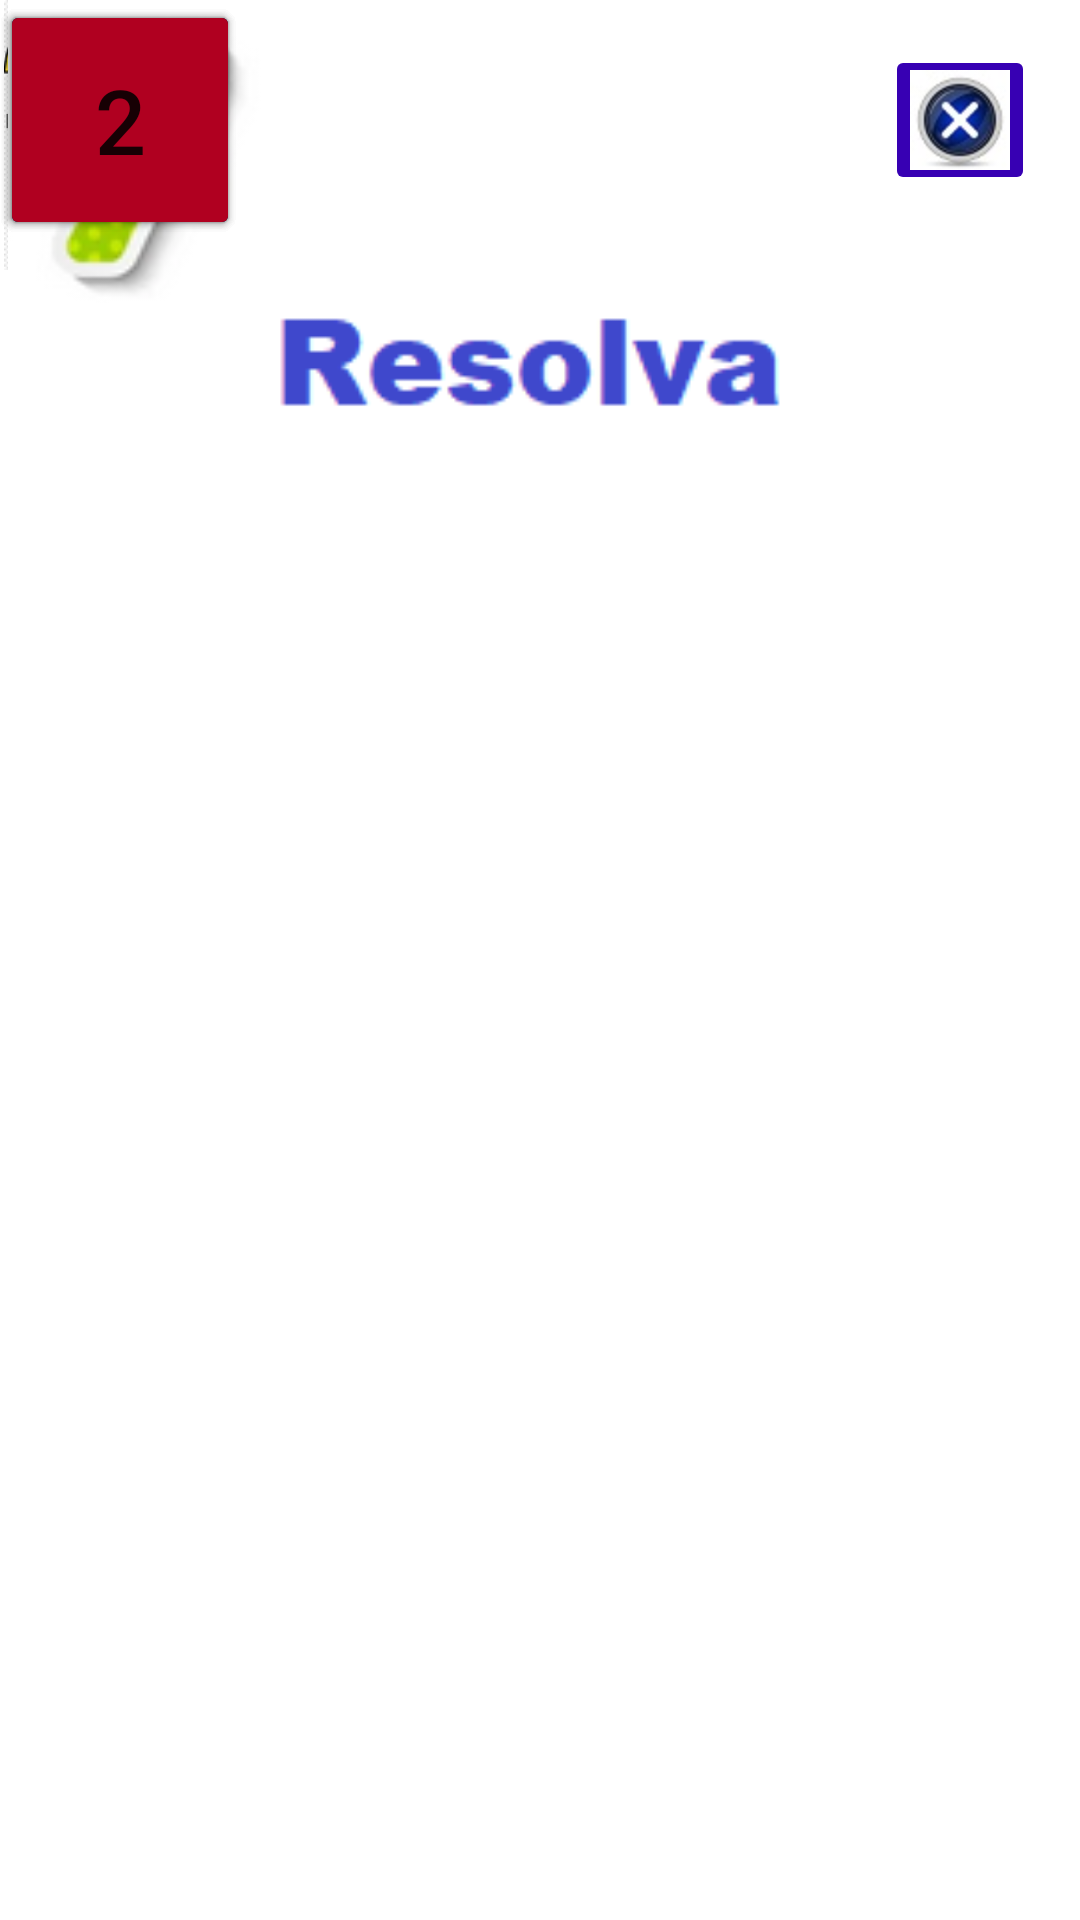

Icons on this 1080px×1920px Android screen, each with the point to tap as (x=x, y=y):
botaofechar: (x=960, y=120)
